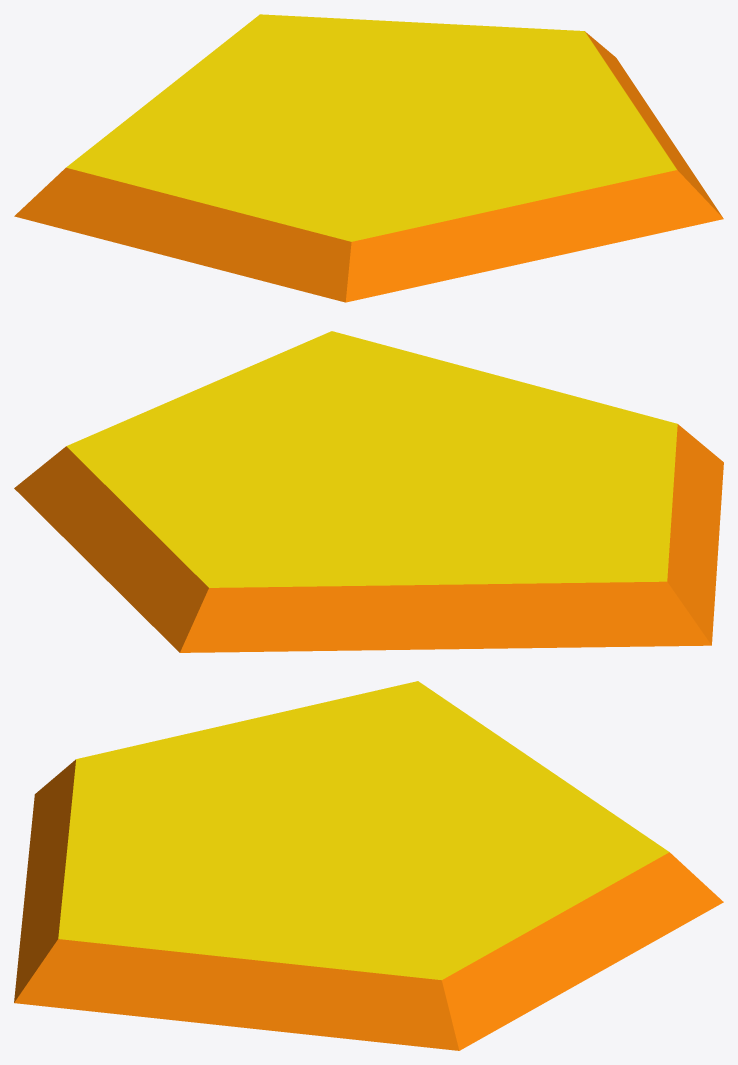
File: RockFlat1.fbx
3 renders of one model, top to bottom at view 1: azimuth 30°, elevation 25°; view 2: azimuth 150°, elevation 25°; view 3: azimuth 270°, elevation 25°, orthographic. The views are drawn at different scales.
Visible parts, largest first — view 1: RockFlat1; view 2: RockFlat1; view 3: RockFlat1.
Boxes of the visible parts, bbox=[...] form: RockFlat1: bbox=[14, 14, 723, 302]; RockFlat1: bbox=[14, 331, 723, 652]; RockFlat1: bbox=[14, 681, 723, 1050].
Bounding box in the file's own units: 2.79 × 2.41 × 0.182.
